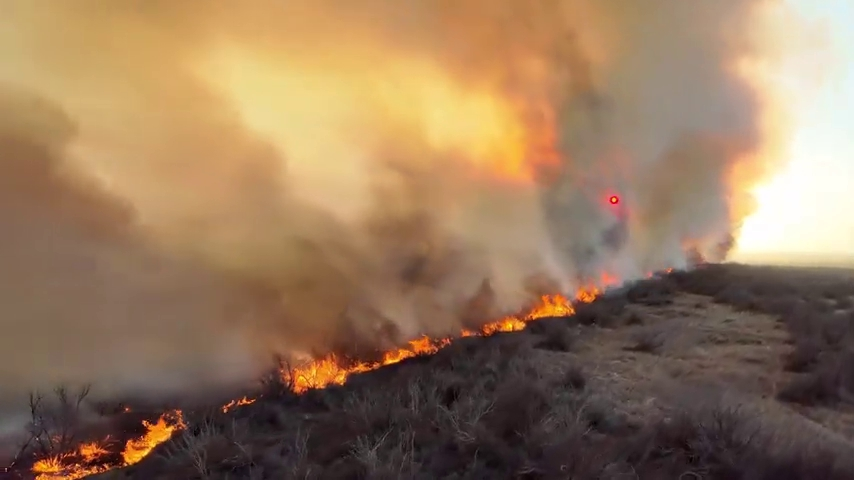forest_fire: (31, 410, 184, 479), (286, 337, 450, 392), (462, 286, 600, 335), (222, 397, 255, 411)
